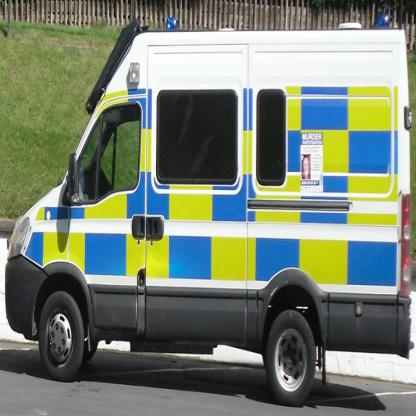Ambulance: (5, 13, 413, 409)
